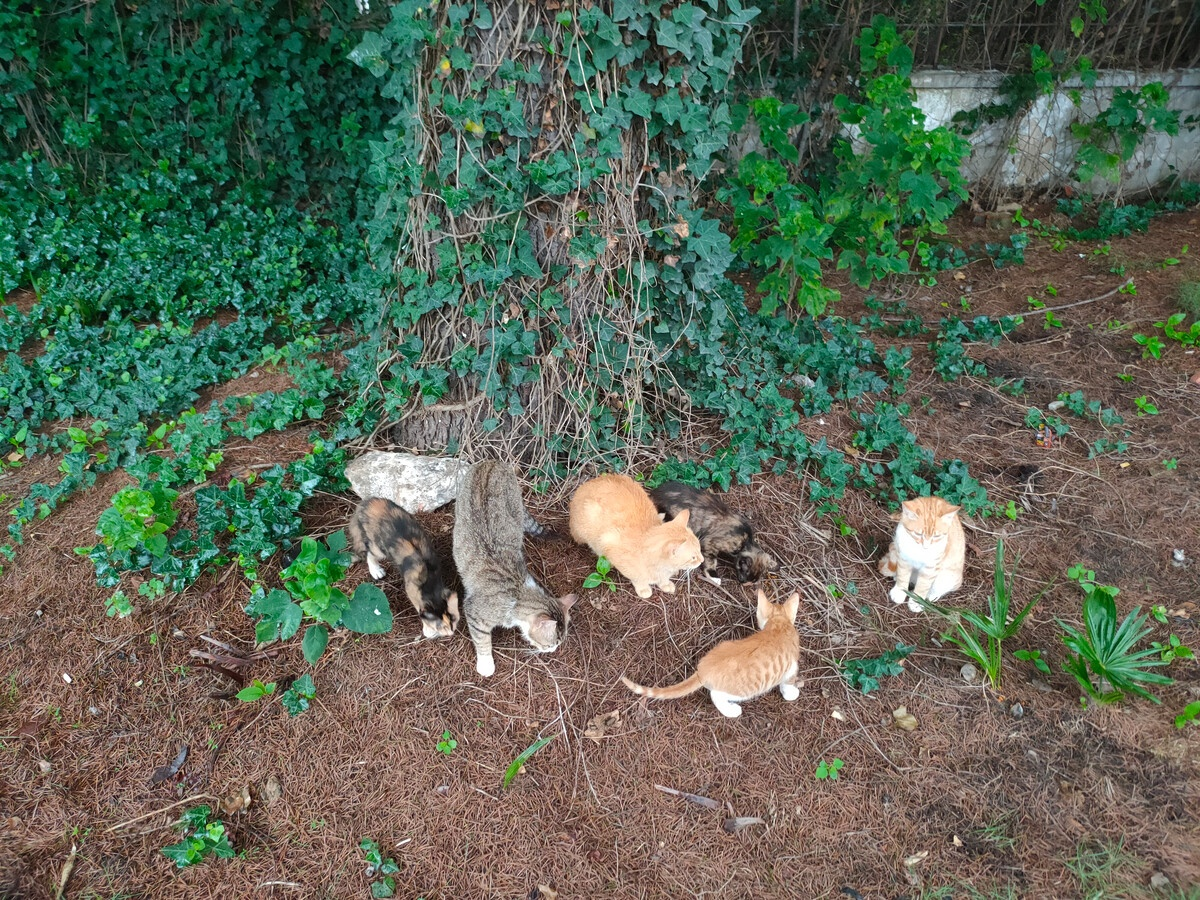cat: (451, 458, 579, 678), (618, 588, 803, 720), (566, 472, 704, 599), (349, 498, 459, 643), (650, 479, 779, 585), (879, 497, 967, 613)
